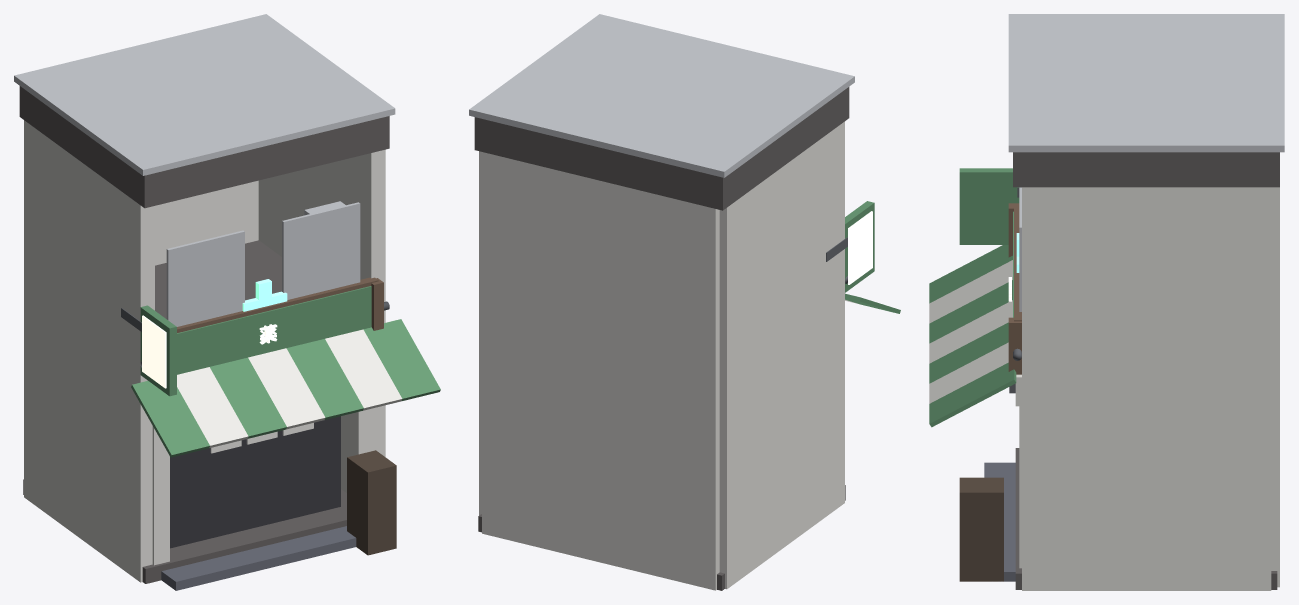
Rendered from prop_shop_yakkyoku.glb.
3 views of the same model, side by side, from view 1: azimuth 30°, elevation 25°; view 2: azimuth 150°, elevation 25°; view 3: azimuth 270°, elevation 25° (orthographic). The views are drawn at different scales.
Parts seen in each view (by area): view 1: shop_yakkyoku; view 2: shop_yakkyoku; view 3: shop_yakkyoku.
Boxes of the visible parts, <box> form: shop_yakkyoku: <box>14,14,440,590</box>; shop_yakkyoku: <box>469,14,900,590</box>; shop_yakkyoku: <box>929,14,1284,590</box>.
Size of the model in its own units: 3.73 by 5.54 by 3.99.
